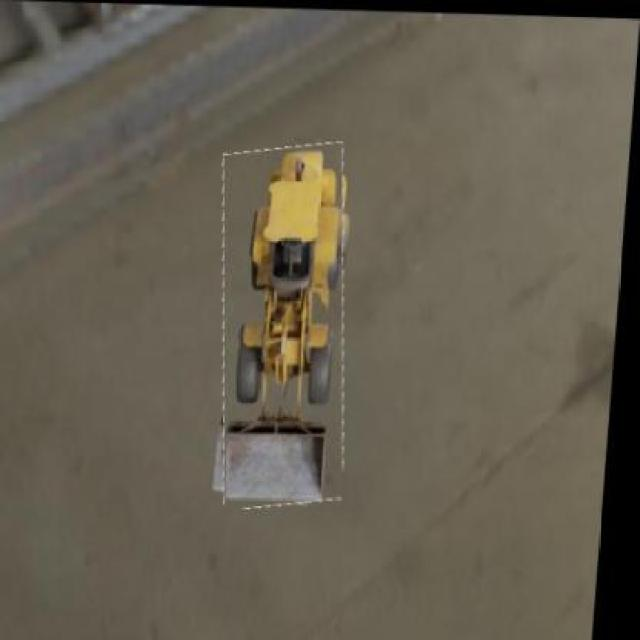buldozerpayloadergrader: (226, 151, 340, 500)
